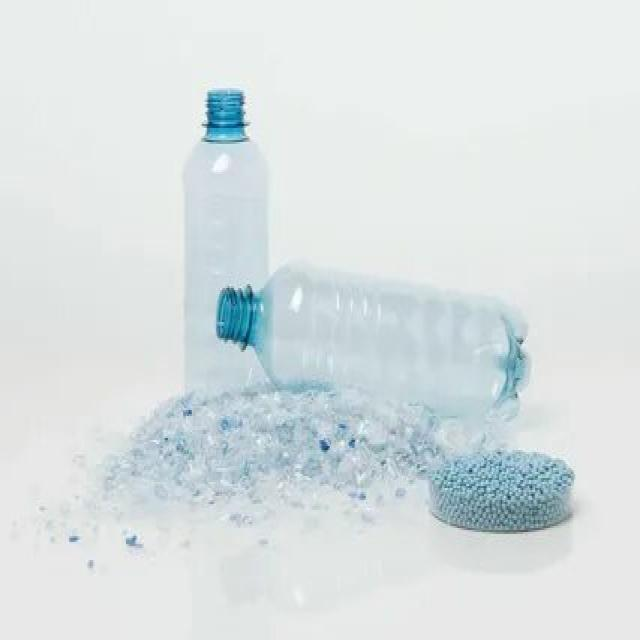blue: (215, 263, 532, 427), (181, 88, 269, 387)
